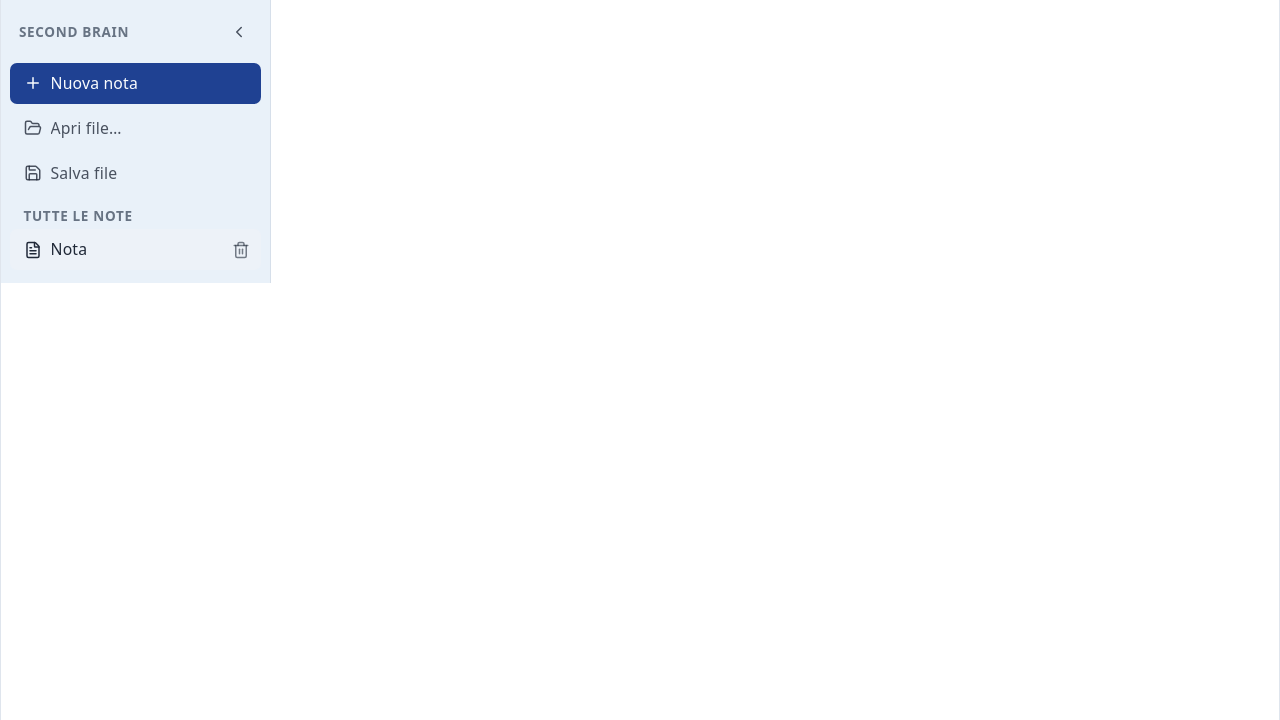
Test case: Sidebar — eliminazione nota › guasto reale → messaggio a video e nota NON eliminata (UC81)
Step 1. Click the button named "Elimina «Nota»" → (241, 250), box [225, 234, 256, 266]
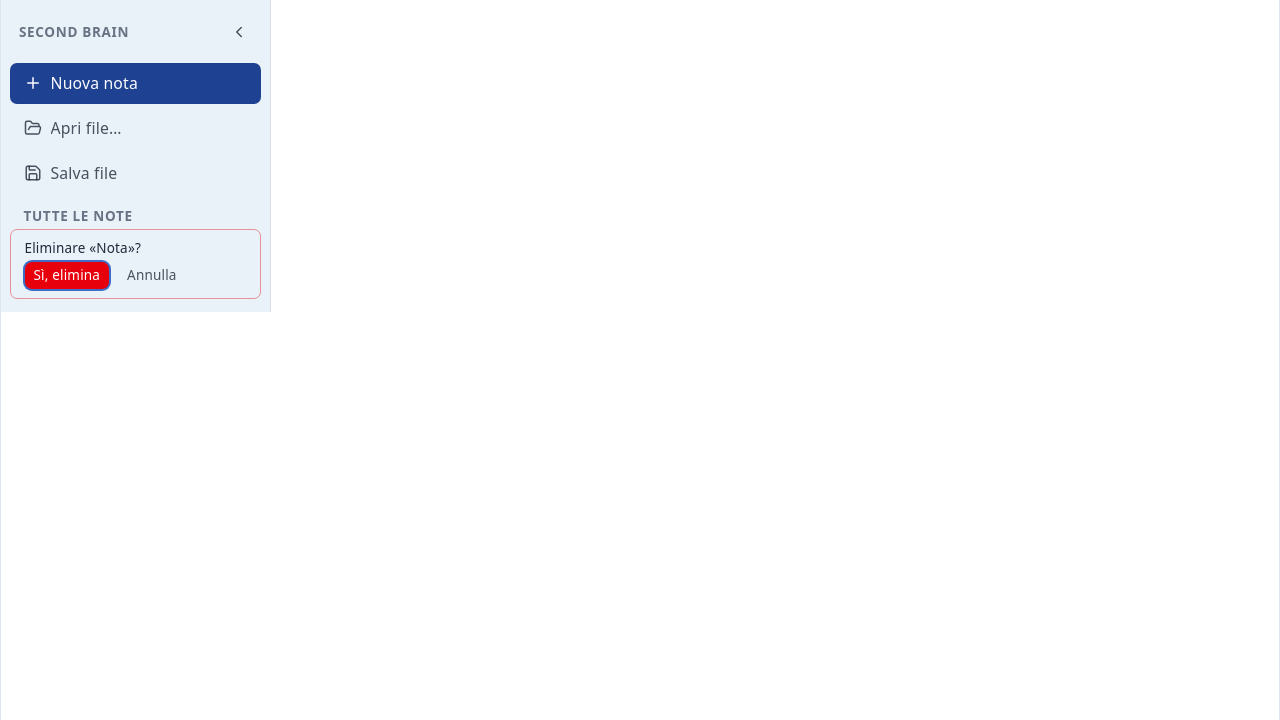
Step 2. Click the button "Sì, elimina" → (67, 276), box [24, 262, 109, 289]
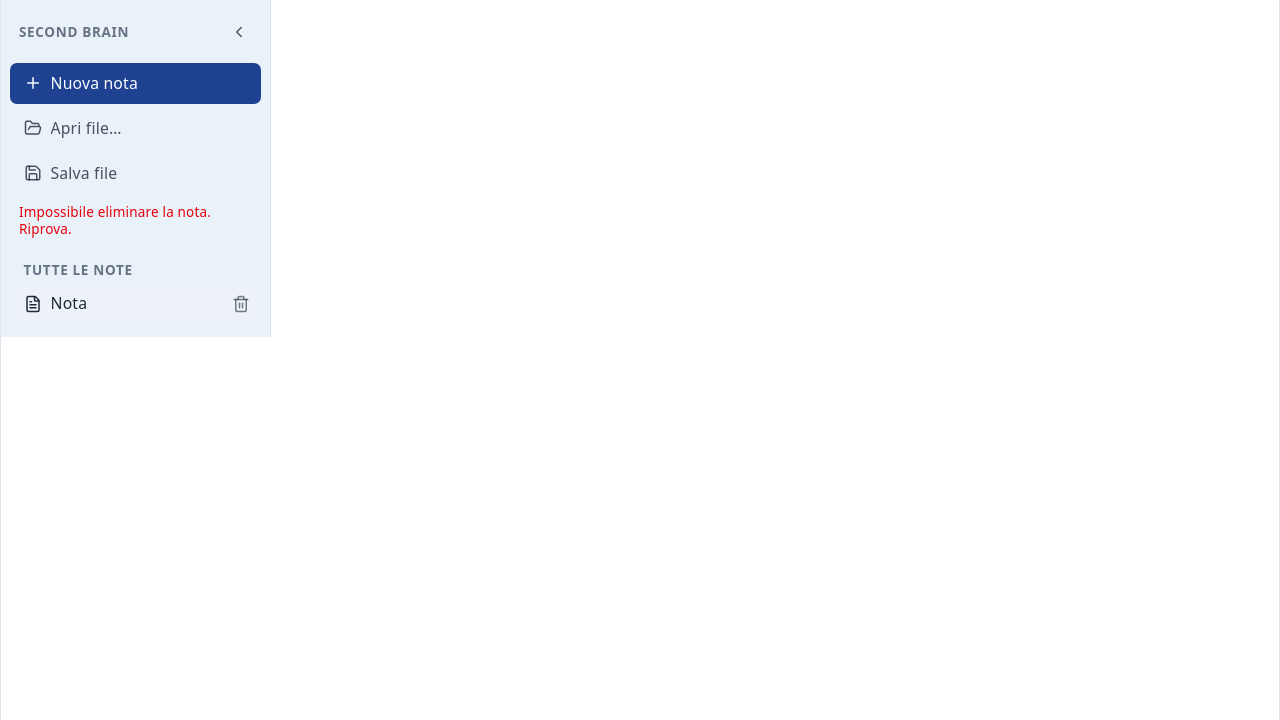
Expected: the message shows "Impossibile eliminare la nota", [19, 202, 211, 238]
